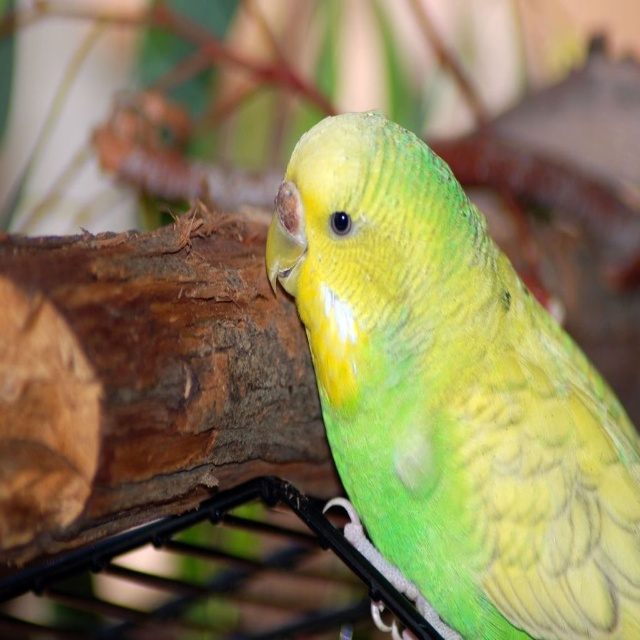Parrot: (266, 109, 640, 640)
